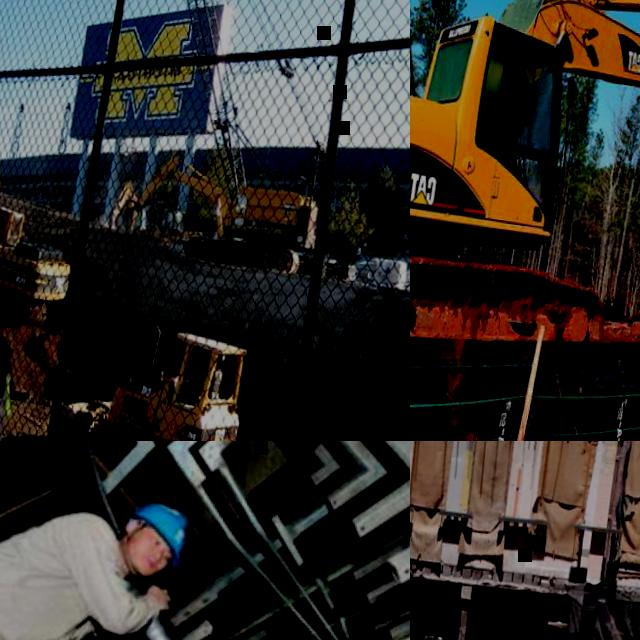helmet: (128, 500, 194, 560)
machinery: (410, 0, 640, 364), (0, 62, 104, 338), (104, 143, 320, 275), (48, 314, 253, 441)
no_mask: (126, 546, 164, 574)
no_vest: (0, 497, 126, 640)
person: (0, 475, 211, 640)
